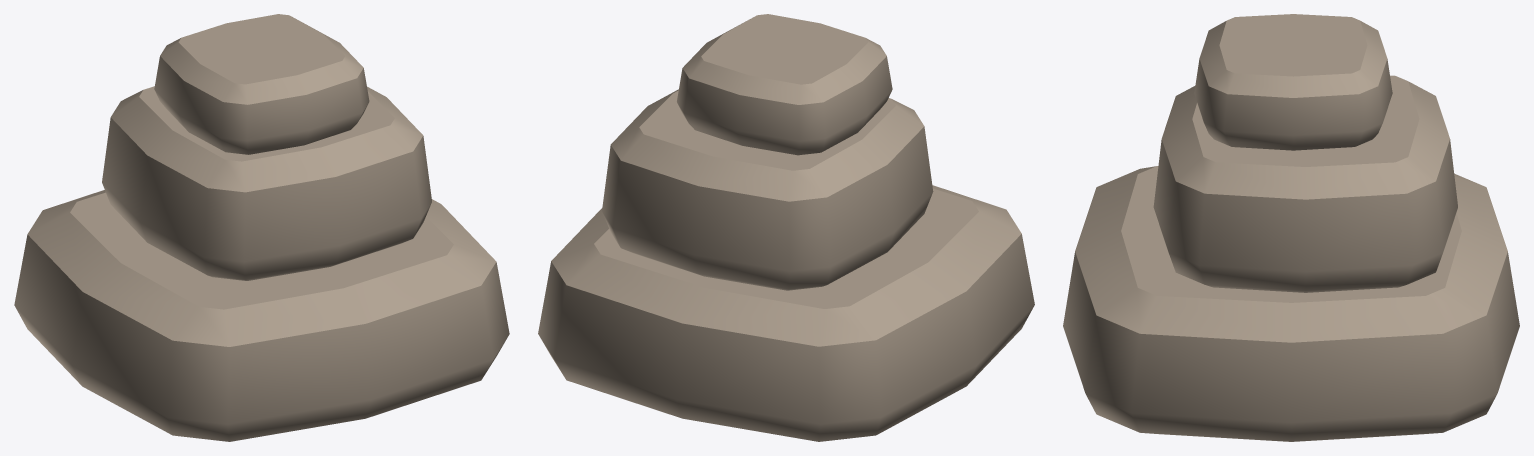
The model's file is Big Pile Rock 01.FBX.
3 renders of one model, left to right at view 1: azimuth 30°, elevation 25°; view 2: azimuth 150°, elevation 25°; view 3: azimuth 270°, elevation 25°, orthographic. The views are drawn at different scales.
Visible parts, largest first — view 1: Big Pile Rock 01; view 2: Big Pile Rock 01; view 3: Big Pile Rock 01.
Boxes of the visible parts, <box> form: Big Pile Rock 01: <box>14,14,509,441</box>; Big Pile Rock 01: <box>538,14,1034,441</box>; Big Pile Rock 01: <box>1063,14,1519,441</box>.
Bounding box in the file's own units: 611 × 466 × 611.
1 material, 1 textured.
